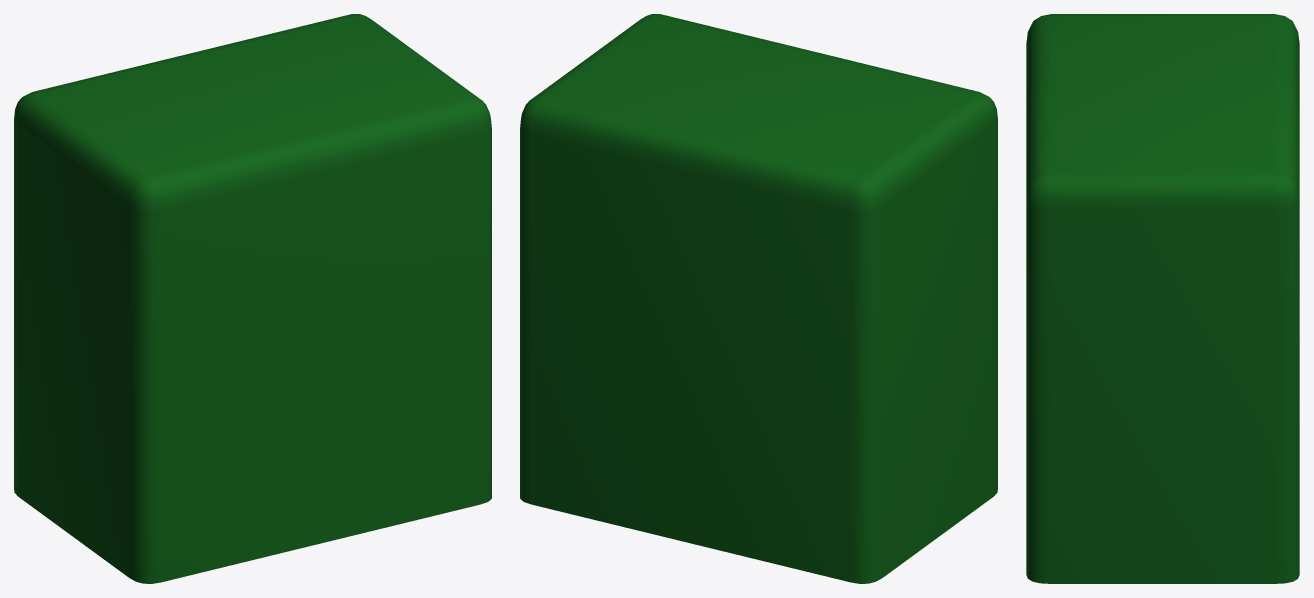
Rendered from Seto.fbx.
3 views of the same model, side by side, from view 1: azimuth 30°, elevation 25°; view 2: azimuth 150°, elevation 25°; view 3: azimuth 270°, elevation 25° (orthographic).
Parts seen in each view (by area): view 1: Seto; view 2: Seto; view 3: Seto.
Boxes of the visible parts, bbox=[...] form: Seto: bbox=[14, 14, 491, 583]; Seto: bbox=[520, 14, 997, 583]; Seto: bbox=[1026, 14, 1299, 583].
Size of the model in its own units: 82.98 by 88.18 by 54.49.
